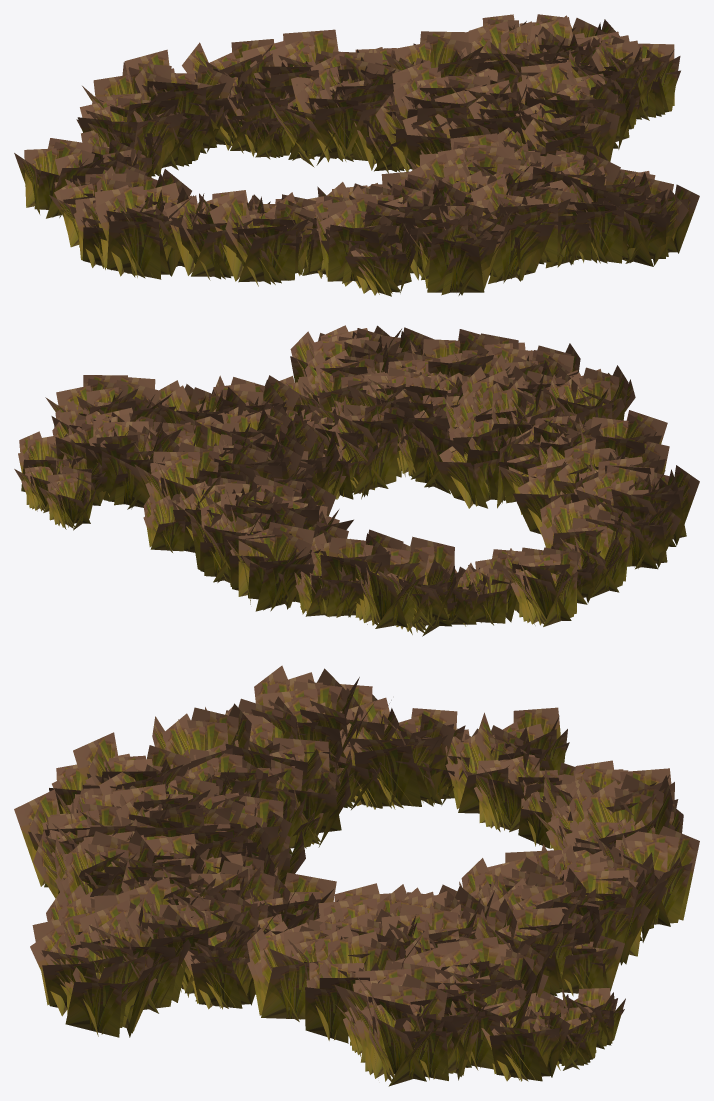
Rendered from object_4_lev2.glb.
3 views of the same model, one above another, from view 1: azimuth 30°, elevation 25°; view 2: azimuth 150°, elevation 25°; view 3: azimuth 270°, elevation 25° (orthographic). The views are drawn at different scales.
Parts seen in each view (by area): view 1: object_4_lev2; view 2: object_4_lev2; view 3: object_4_lev2.
Part boxes in pixels (left/top/right/bottom): object_4_lev2: left=14, top=14, right=699, bottom=296; object_4_lev2: left=14, top=325, right=699, bottom=636; object_4_lev2: left=14, top=665, right=699, bottom=1086.
Size of the model in its own units: 25.78 by 4.1 by 21.17.
1 material, 1 textured.
